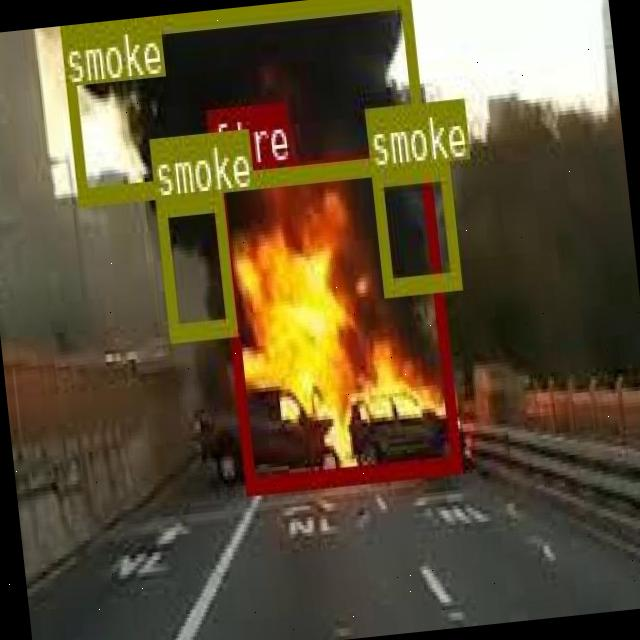fire: (210, 147, 460, 491)
smoke: (58, 0, 425, 204), (370, 159, 459, 293), (153, 192, 234, 339)
